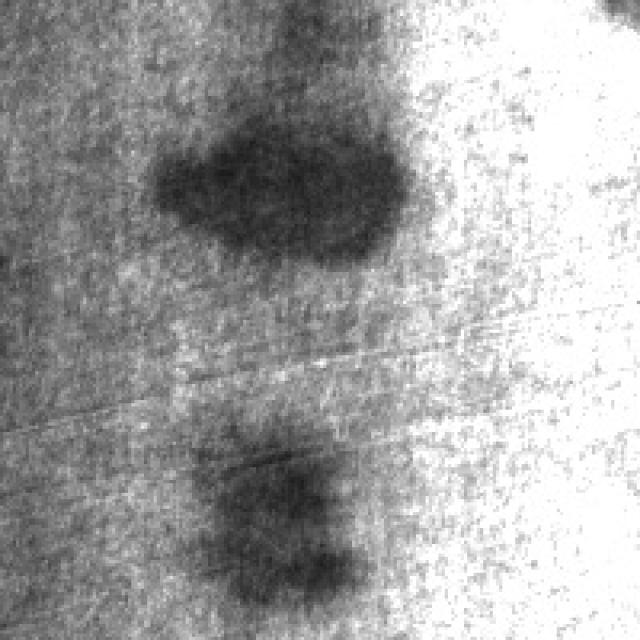patches: (140, 83, 410, 272), (188, 406, 346, 608)
